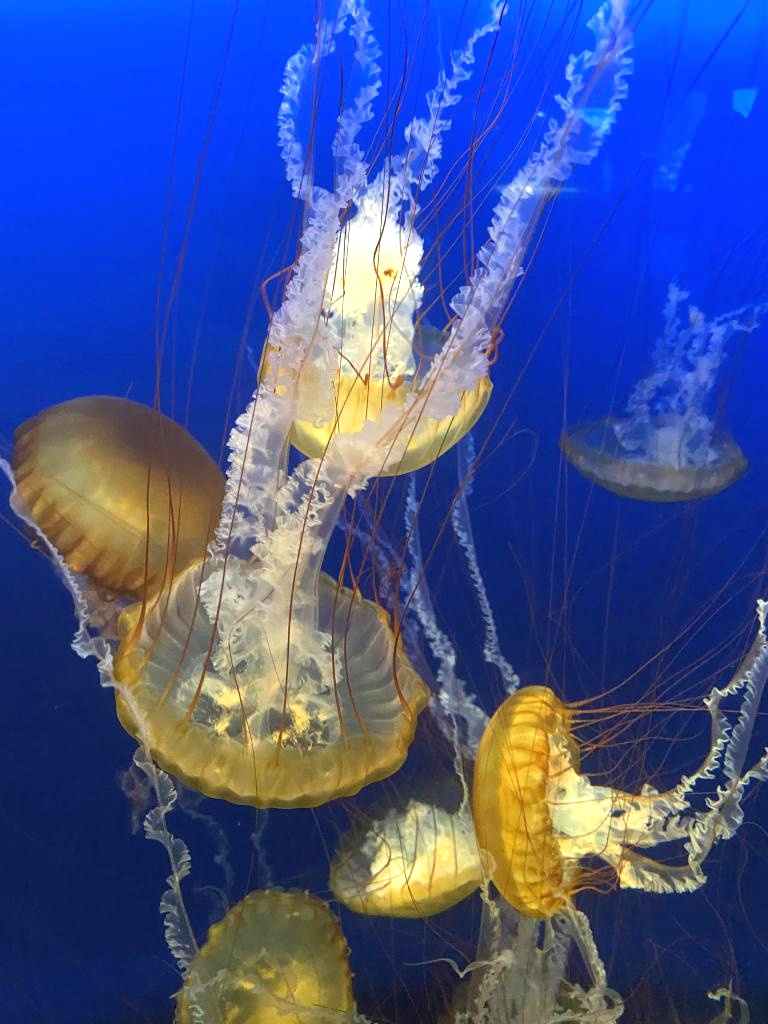jellyfish: (100, 540, 434, 798), (258, 223, 486, 471), (20, 400, 224, 626), (555, 290, 753, 498), (470, 692, 612, 916), (172, 894, 388, 1002), (327, 812, 493, 910)
